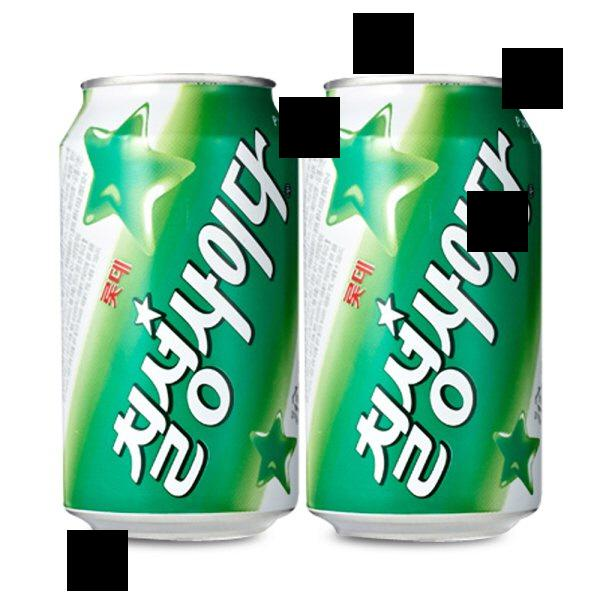chilsungcider: (296, 72, 564, 555), (47, 67, 302, 543)
